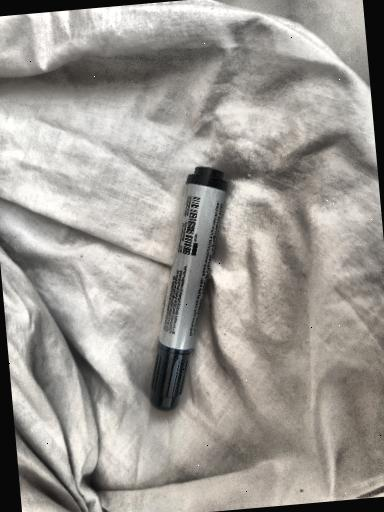marcador negro: (150, 167, 227, 410)
